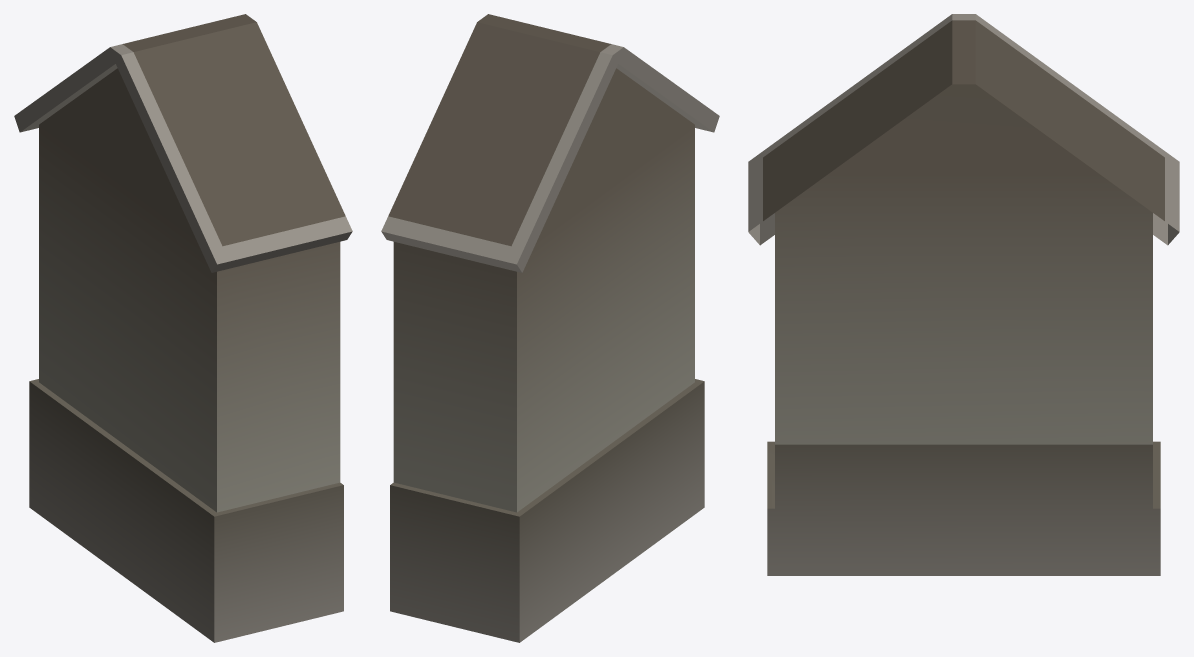
The model's file is Buffer-1Story_A-End.fbx.
3 renders of one model, left to right at view 1: azimuth 30°, elevation 25°; view 2: azimuth 150°, elevation 25°; view 3: azimuth 270°, elevation 25°, orthographic. The views are drawn at different scales.
Parts seen in each view (by area): view 1: Buffer-1Story_A-End; view 2: Buffer-1Story_A-End; view 3: Buffer-1Story_A-End.
Part boxes in pixels (<box>): Buffer-1Story_A-End: <box>14,14,352,642</box>; Buffer-1Story_A-End: <box>381,14,719,642</box>; Buffer-1Story_A-End: <box>748,14,1179,575</box>.
Bounding box in the file's own units: 220 × 815 × 570.
